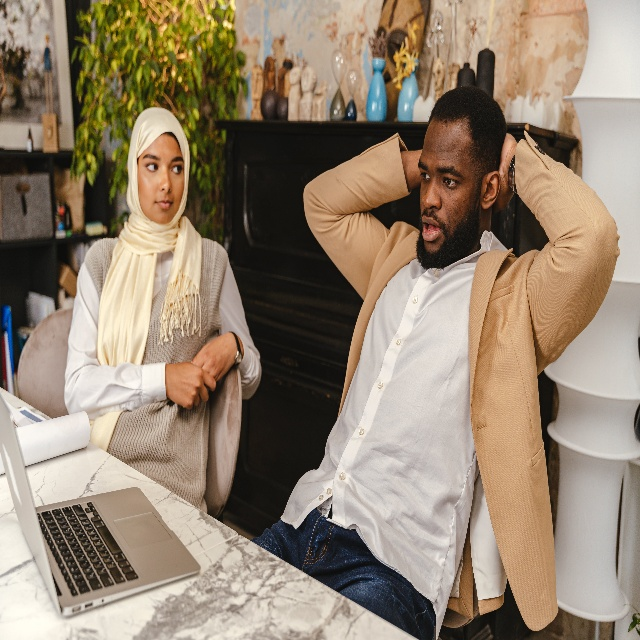Sin_guantes: (168, 360, 217, 411), (193, 330, 238, 382), (494, 131, 518, 212)
